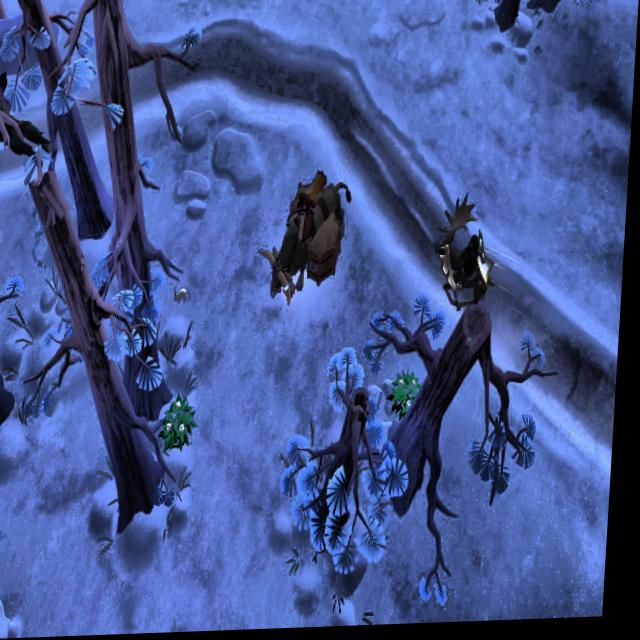fiber_t3: (160, 393, 203, 450), (392, 373, 431, 421)
